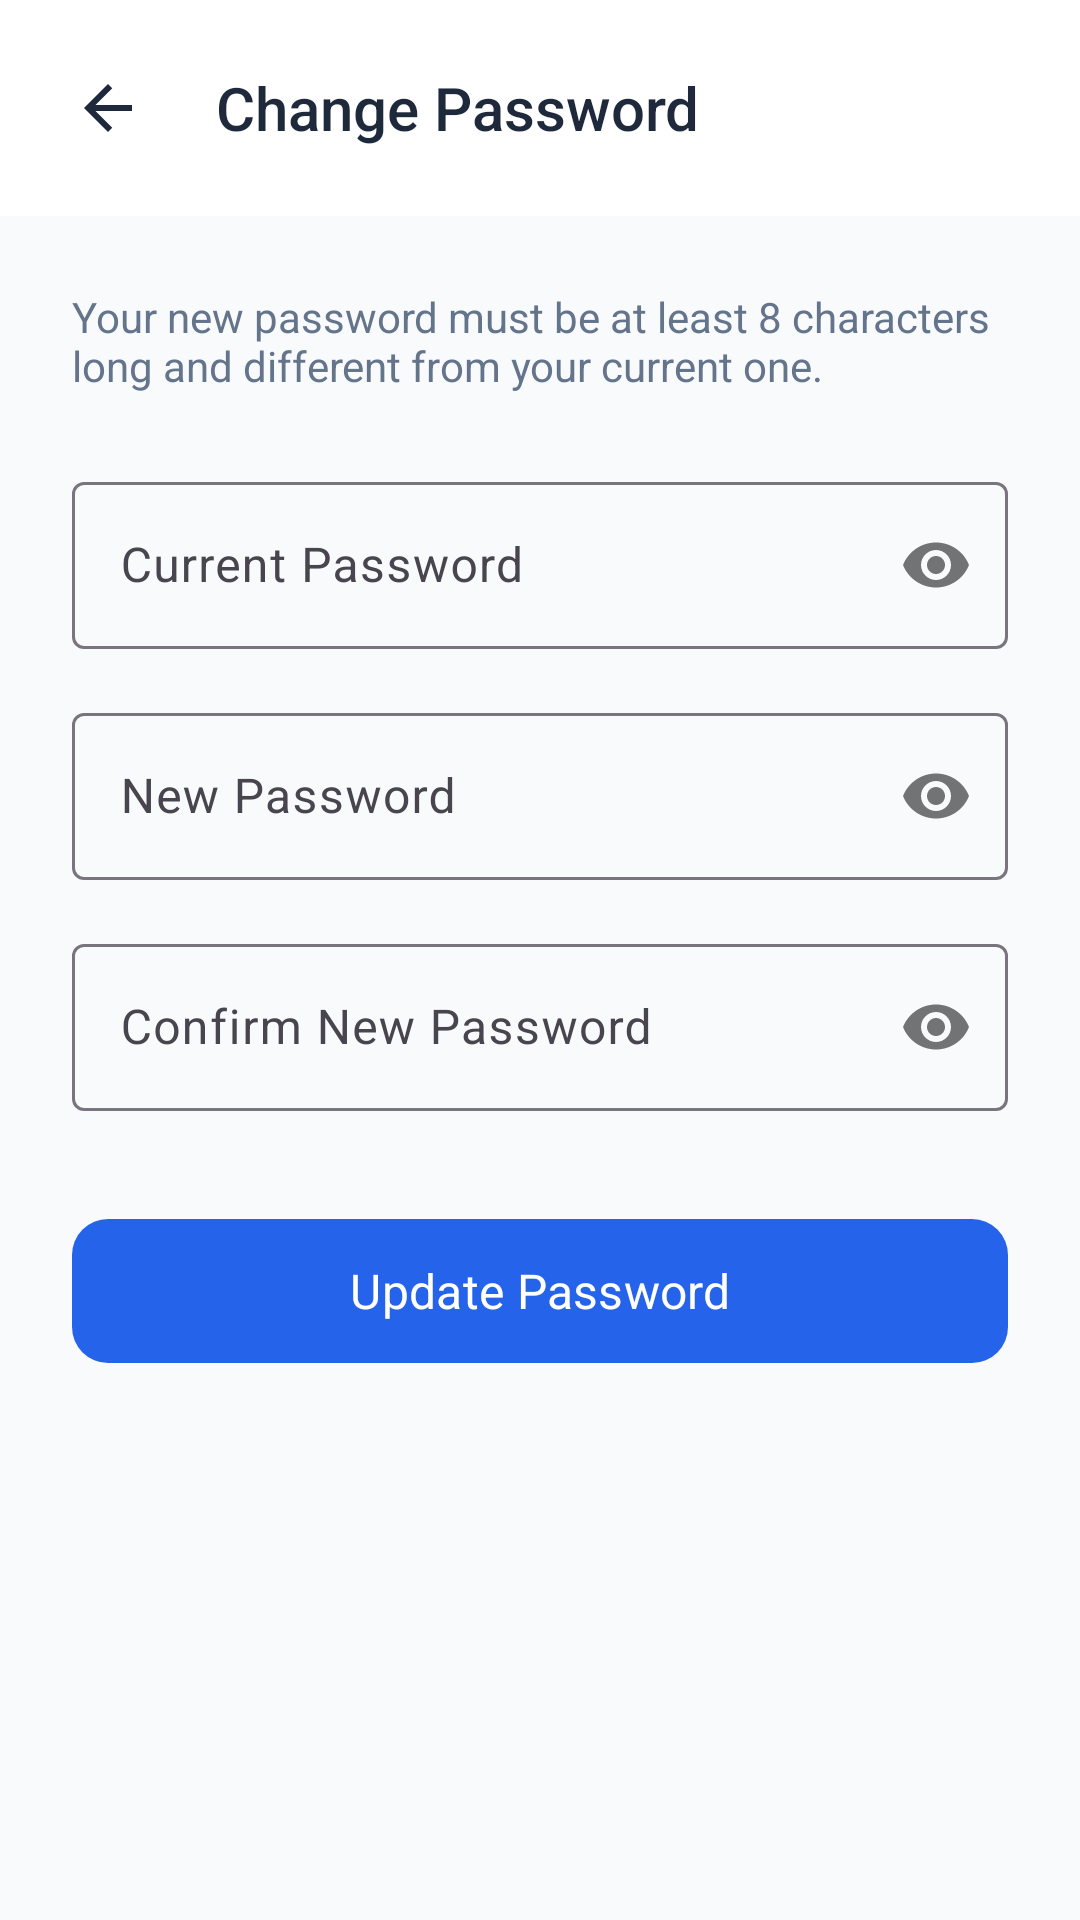

Named icons in this screenshot (1080px x 1920px) and their bounding boxes, bbox=[x1, y1, x2, y2]:
Back: bbox=[84, 84, 132, 132]
